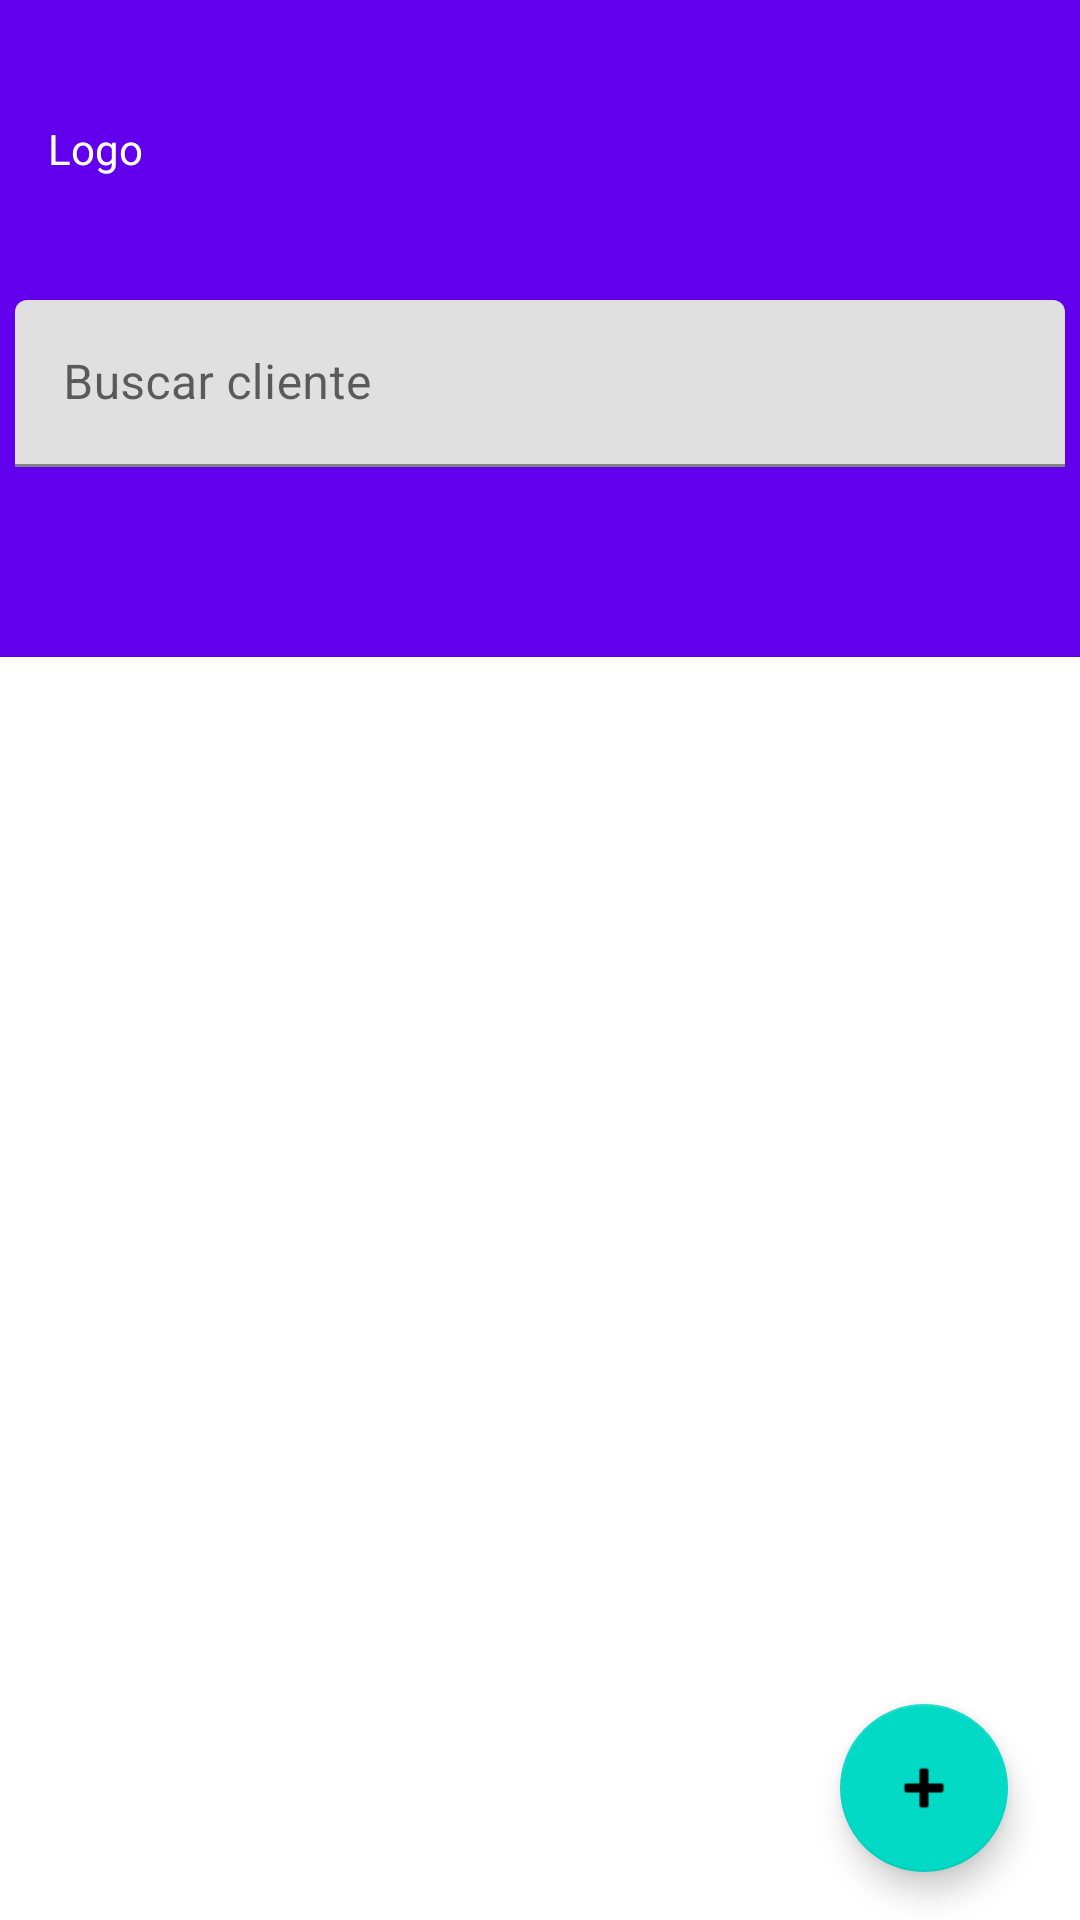

Icon click points for this 1080×1920 phone screenshot, format [x,y]:
add: [924,1788]
